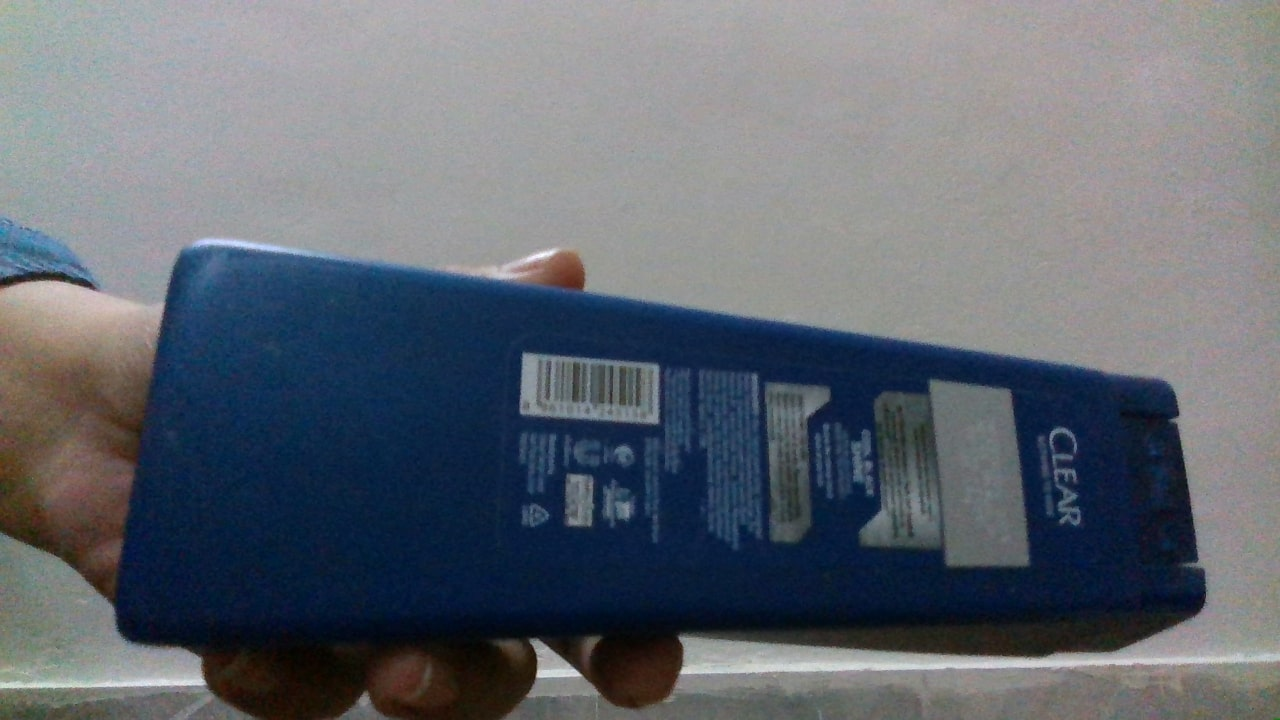Barcode: (532, 353, 657, 419)
